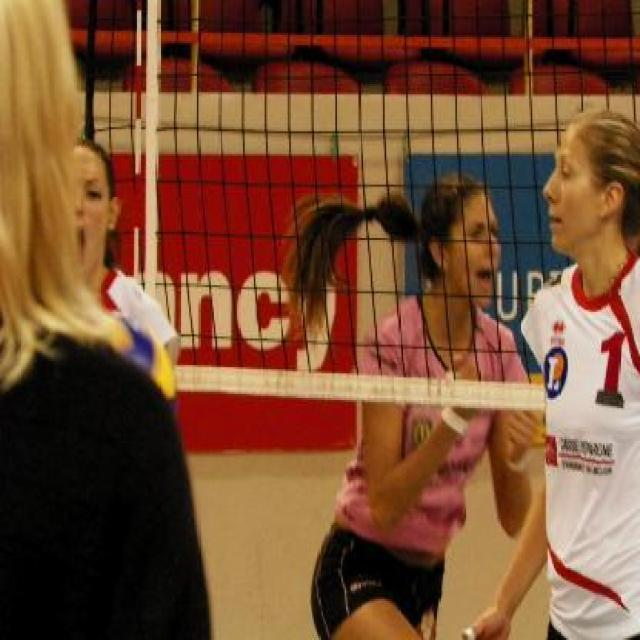volleyball: (103, 315, 176, 408)
